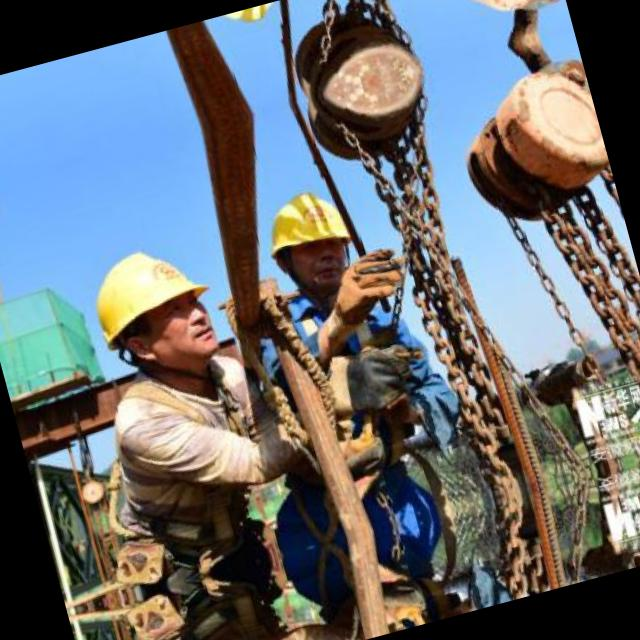helmet: (68, 218, 238, 400), (248, 171, 372, 315), (201, 0, 301, 45)
